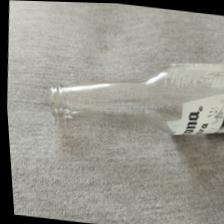glass: (48, 64, 223, 222)
